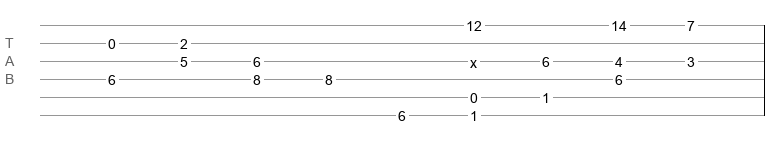0: (108, 36, 116, 46), (470, 90, 478, 100)
1: (470, 108, 478, 118), (542, 90, 550, 100)
12: (466, 18, 482, 28)
14: (611, 18, 627, 28)
2: (180, 36, 188, 46)
3: (687, 54, 695, 64)
4: (615, 54, 623, 64)
5: (180, 54, 188, 64)
6: (108, 72, 116, 82), (253, 54, 261, 64), (398, 108, 406, 118), (542, 54, 550, 64), (615, 72, 623, 82)
7: (687, 18, 695, 28)
8: (253, 72, 261, 82), (325, 72, 333, 82)
x: (470, 55, 477, 63)
